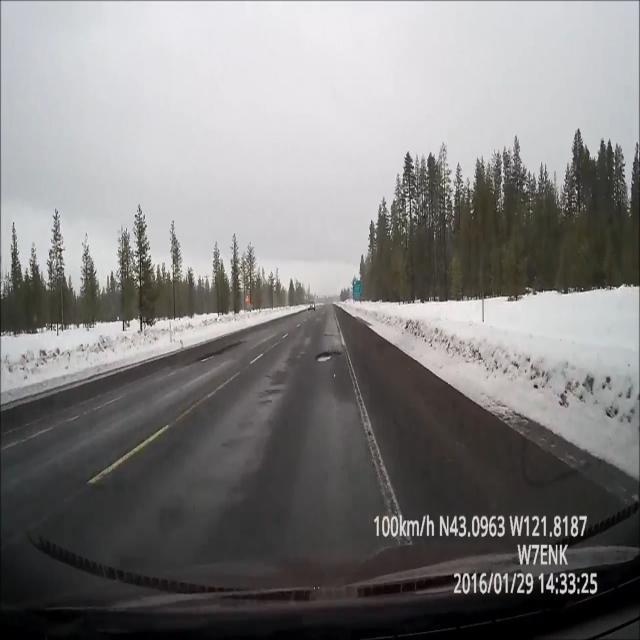Buraco: (194, 339, 248, 365), (313, 350, 344, 364)
